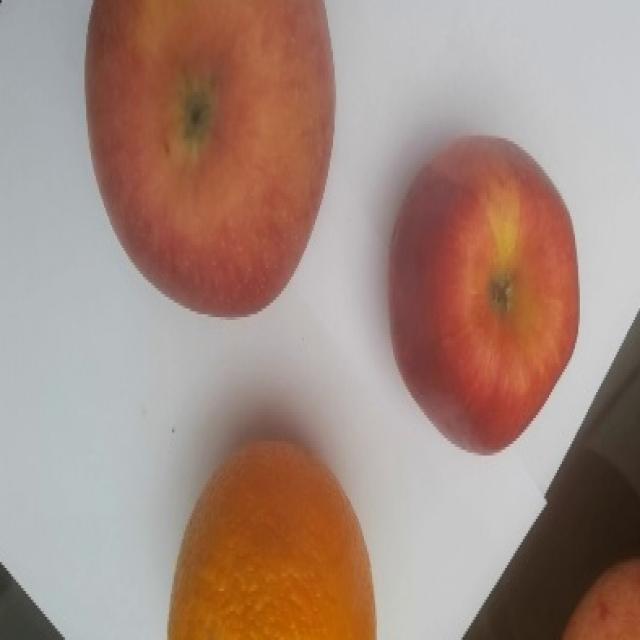Apple: (83, 0, 336, 317), (387, 133, 580, 455), (560, 556, 639, 639)
Orange: (166, 438, 377, 639)
